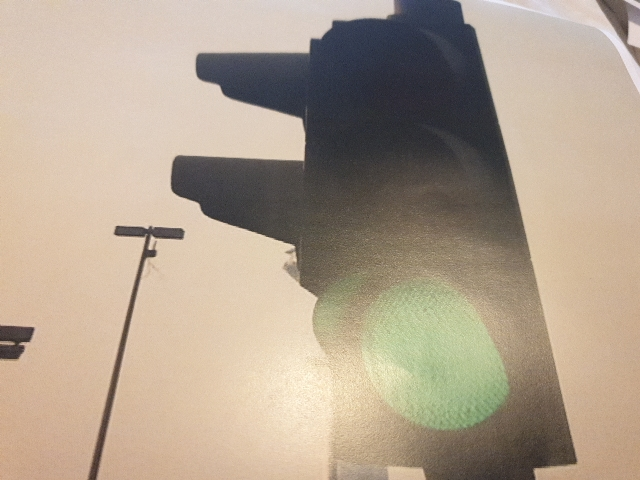green: (301, 22, 533, 445)
